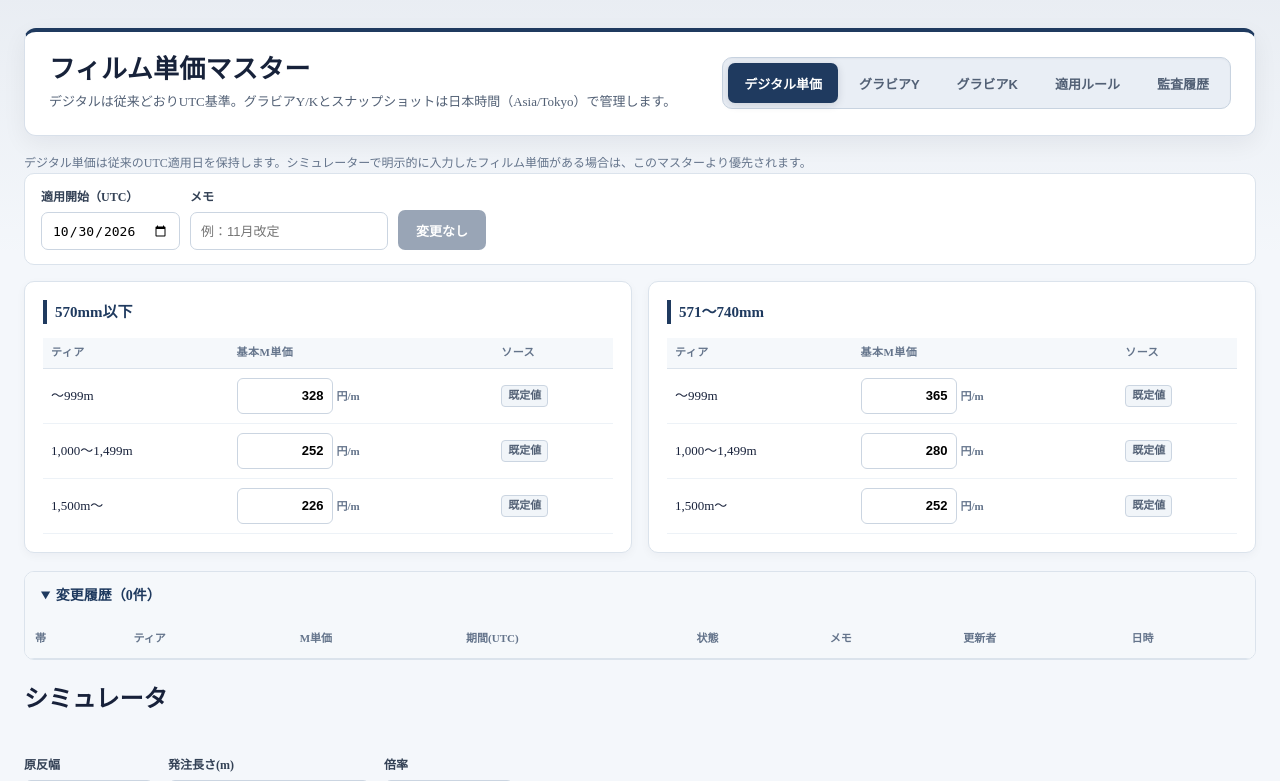
film price admin transport failures › shows a stable save error and re-enables saving after a request disconnects
This screenshot has width=1280, height=781.
Step 1. Replace the text in the field named "570mm以下 〜999m" with "999" → {"x": 285, "y": 396}, box [237, 378, 333, 414]
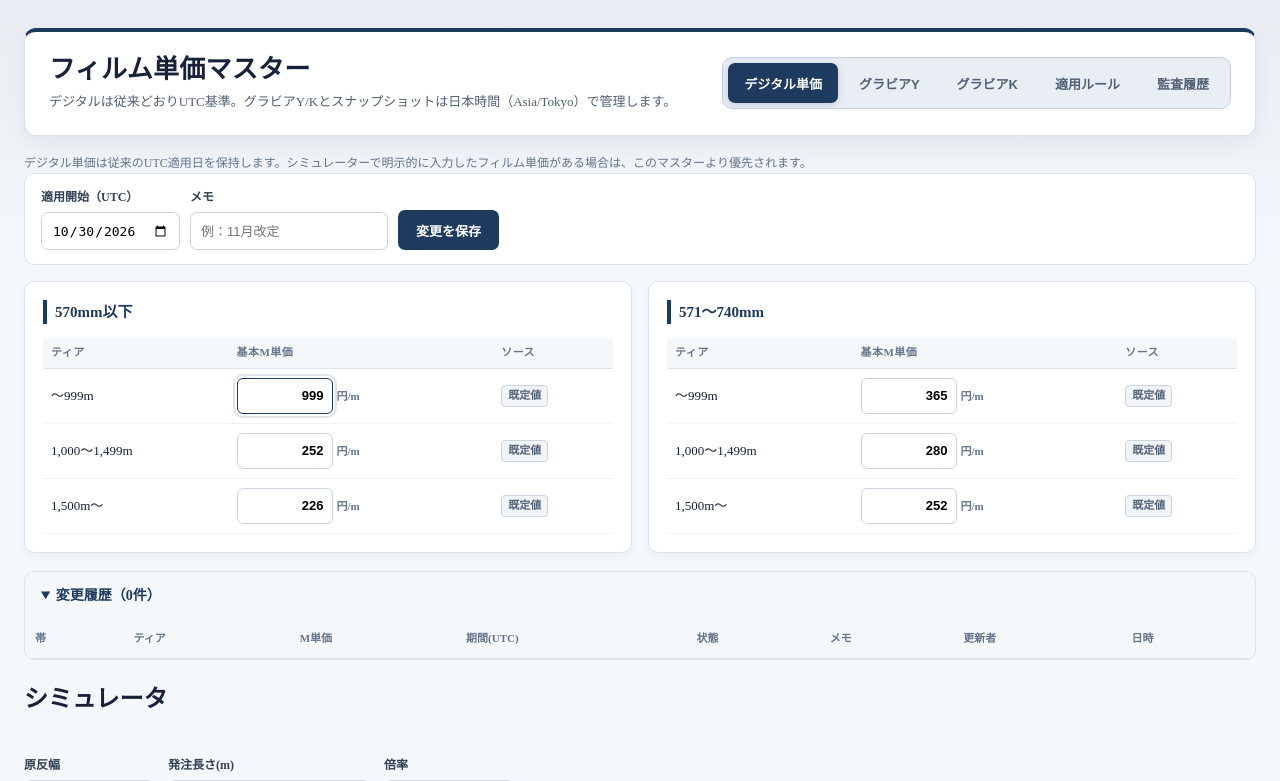
Step 2. Click the button "変更を保存" → {"x": 448, "y": 230}, box [398, 210, 499, 250]
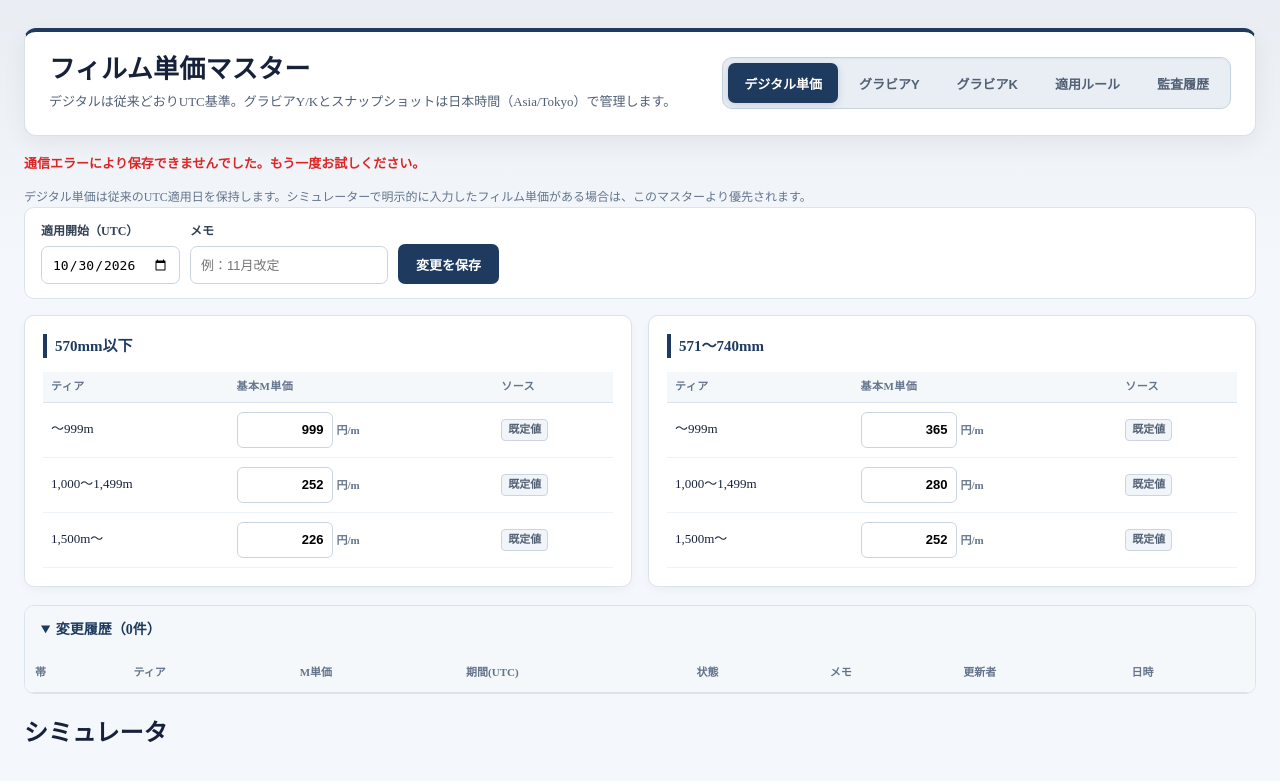
Expected: the button "変更を保存" is enabled, [398, 244, 499, 284]
Expected: the text "通信エラーにより保存できませんでした。もう一度お試しください。" is shown, [24, 156, 425, 171]
